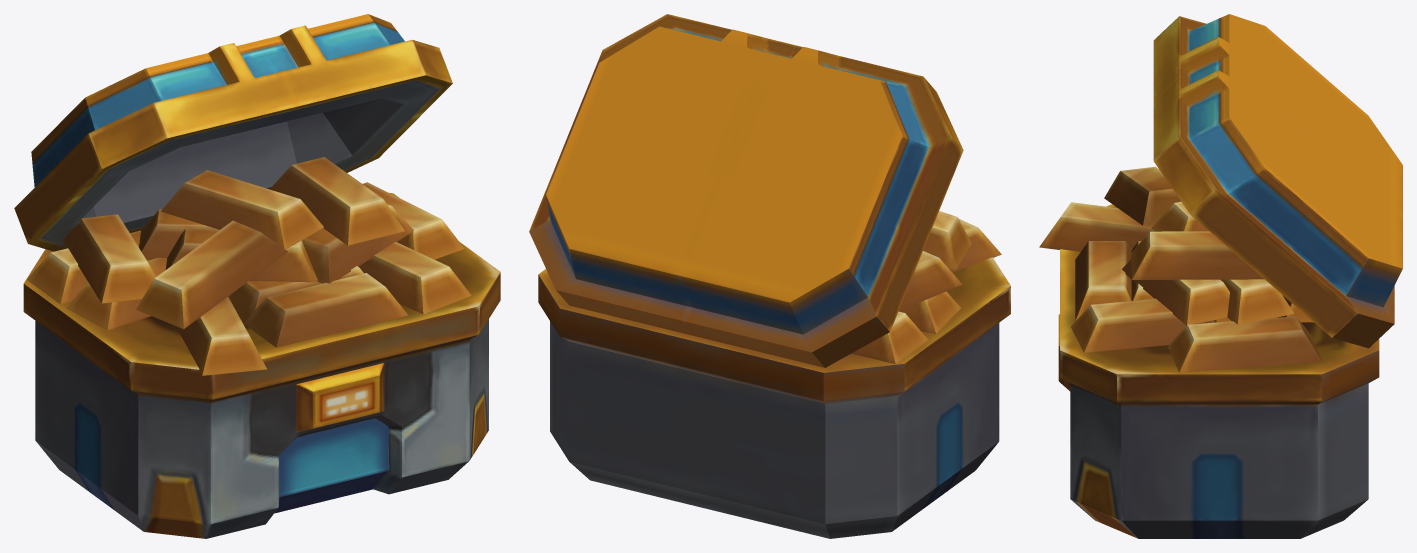
The model's file is tongbaoxiang.FBX.
3 renders of one model, left to right at view 1: azimuth 30°, elevation 25°; view 2: azimuth 150°, elevation 25°; view 3: azimuth 270°, elevation 25°, orthographic. The views are drawn at different scales.
Visible parts, largest first — view 1: tongbaoxiang; view 2: tongbaoxiang; view 3: tongbaoxiang.
Part boxes in pixels (x1,y1,x2,y2): tongbaoxiang: [14, 14, 500, 538]; tongbaoxiang: [529, 14, 1010, 538]; tongbaoxiang: [1039, 14, 1402, 538].
Bounding box in the file's own units: 36.87 × 40.63 × 32.91.
